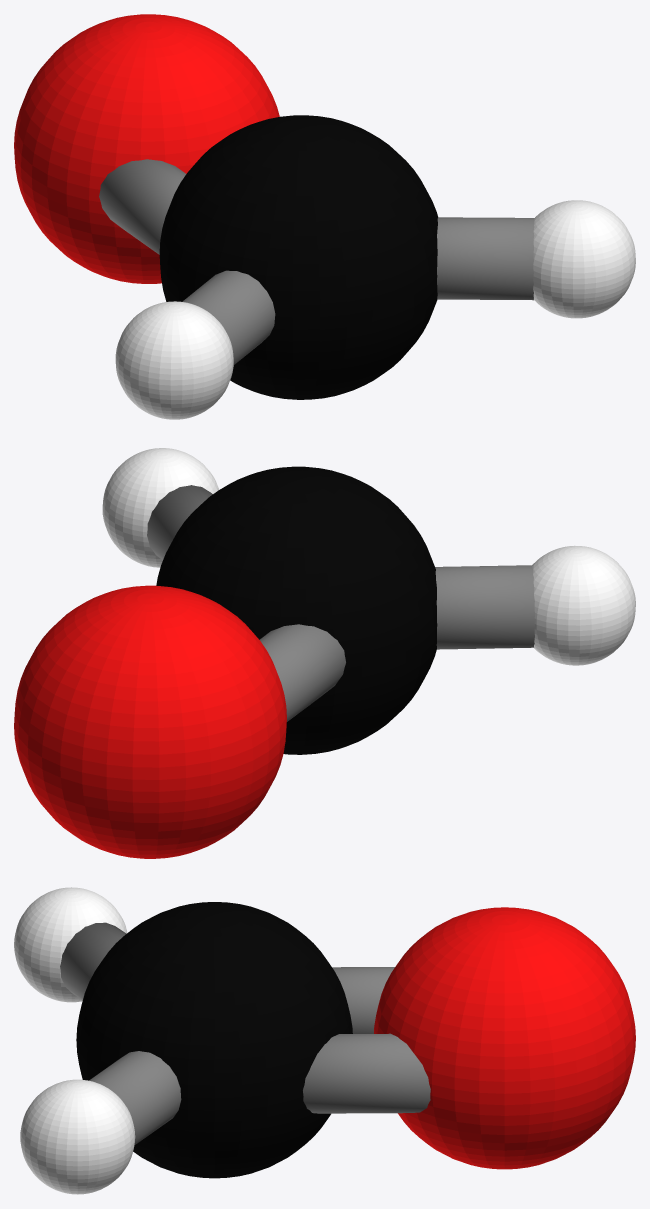
Rendered from METANAL.obj.
3 renders of one model, top to bottom at view 1: azimuth 30°, elevation 25°; view 2: azimuth 150°, elevation 25°; view 3: azimuth 270°, elevation 25°, orthographic. The views are drawn at different scales.
Visible parts, largest first — view 1: Carbon_ball_Sphere, Oxygen_ball_Sphere.002, Hydrogen_ball_Sphere.001, Stick_Cylinder.002_Cylinder.002, Stick_Cylinder_Cylinder, Stick_Cylinder.001_Cylinder.001; view 2: Oxygen_ball_Sphere.002, Carbon_ball_Sphere, Hydrogen_ball_Sphere.001, Stick_Cylinder.001_Cylinder.001, Stick_Cylinder_Cylinder, Stick_Cylinder.002_Cylinder.002; view 3: Carbon_ball_Sphere, Oxygen_ball_Sphere.002, Hydrogen_ball_Sphere.001, Stick_Cylinder.003_Cylinder.003, Stick_Cylinder.002_Cylinder.002, Stick_Cylinder.001_Cylinder.001, Stick_Cylinder_Cylinder.
Part boxes in pixels (<box>): Carbon_ball_Sphere: <box>159,115,437,399</box>; Oxygen_ball_Sphere.002: <box>14,14,279,283</box>; Hydrogen_ball_Sphere.001: <box>115,200,635,419</box>; Stick_Cylinder.002_Cylinder.002: <box>437,217,534,300</box>; Stick_Cylinder_Cylinder: <box>99,159,186,254</box>; Stick_Cylinder.001_Cylinder.001: <box>182,270,275,364</box>; Oxygen_ball_Sphere.002: <box>14,585,286,858</box>; Carbon_ball_Sphere: <box>156,466,437,754</box>; Hydrogen_ball_Sphere.001: <box>102,448,635,665</box>; Stick_Cylinder.001_Cylinder.001: <box>435,565,534,649</box>; Stick_Cylinder_Cylinder: <box>259,624,345,721</box>; Stick_Cylinder.002_Cylinder.002: <box>147,485,212,559</box>; Carbon_ball_Sphere: <box>76,902,352,1178</box>; Oxygen_ball_Sphere.002: <box>374,907,635,1169</box>; Hydrogen_ball_Sphere.001: <box>14,887,135,1194</box>; Stick_Cylinder.003_Cylinder.003: <box>303,1033,430,1113</box>; Stick_Cylinder.002_Cylinder.002: <box>89,1051,181,1145</box>; Stick_Cylinder.001_Cylinder.001: <box>60,922,126,1000</box>; Stick_Cylinder_Cylinder: <box>332,967,394,1033</box>.
Bounding box in the file's own units: 2.85 × 1.39 × 3.11.
